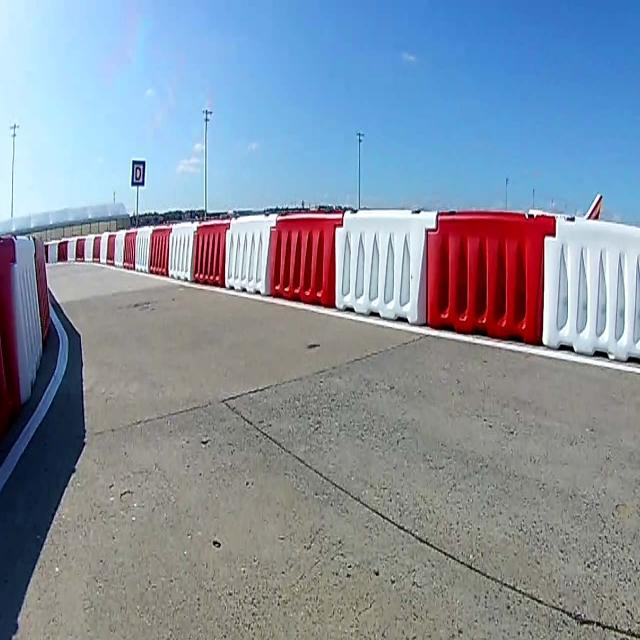durak: (131, 160, 145, 187)
